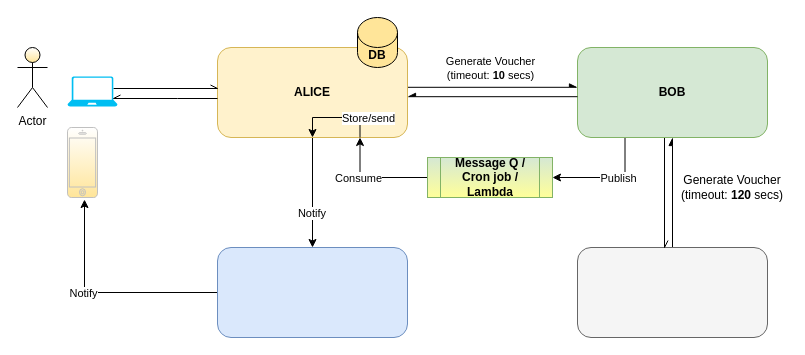
Image size: 805x355. Some labels were removed from this diagram. Here are the shapes that lost their labels. From the top down, the centre of each, then its label:
At point (312, 292): "DAVE".
At point (672, 292): "CAROL".
